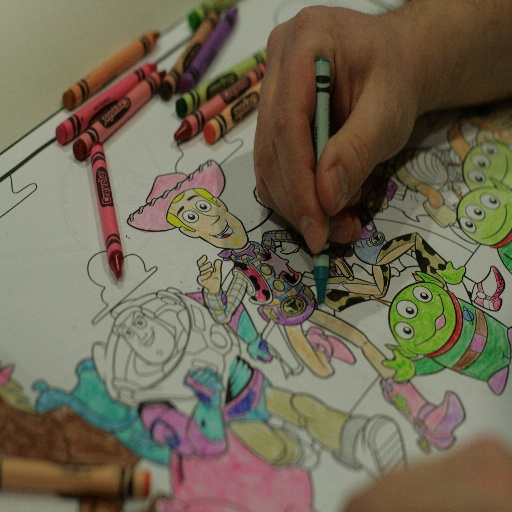hand: (248, 0, 504, 235), (182, 365, 225, 403), (195, 253, 221, 291), (246, 333, 274, 364), (328, 257, 355, 279)
